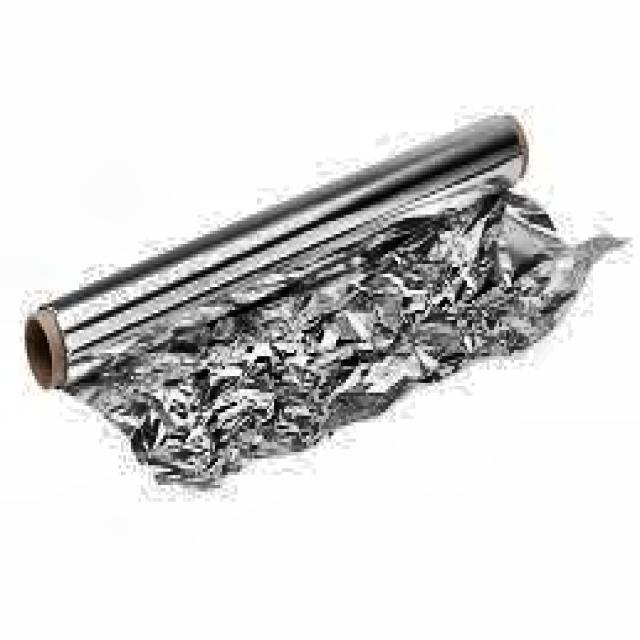Foil: (15, 99, 640, 478)
